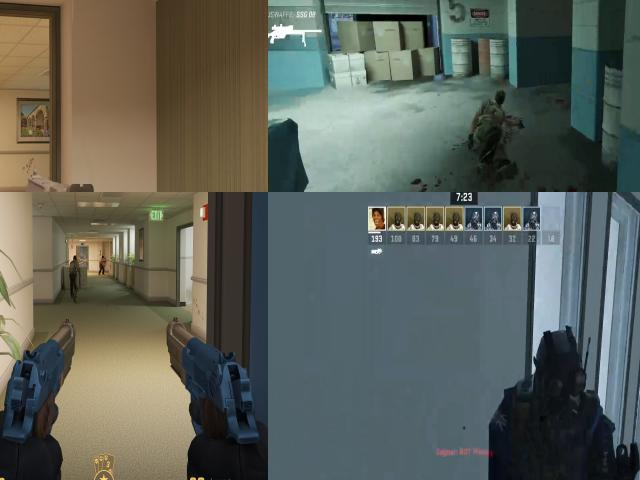CT: (482, 333, 614, 480)
CT-Head: (524, 324, 591, 410)
Dead: (466, 90, 523, 166)
T: (69, 255, 78, 298), (99, 255, 105, 274)
T-Head: (72, 255, 78, 263), (101, 256, 104, 260)
